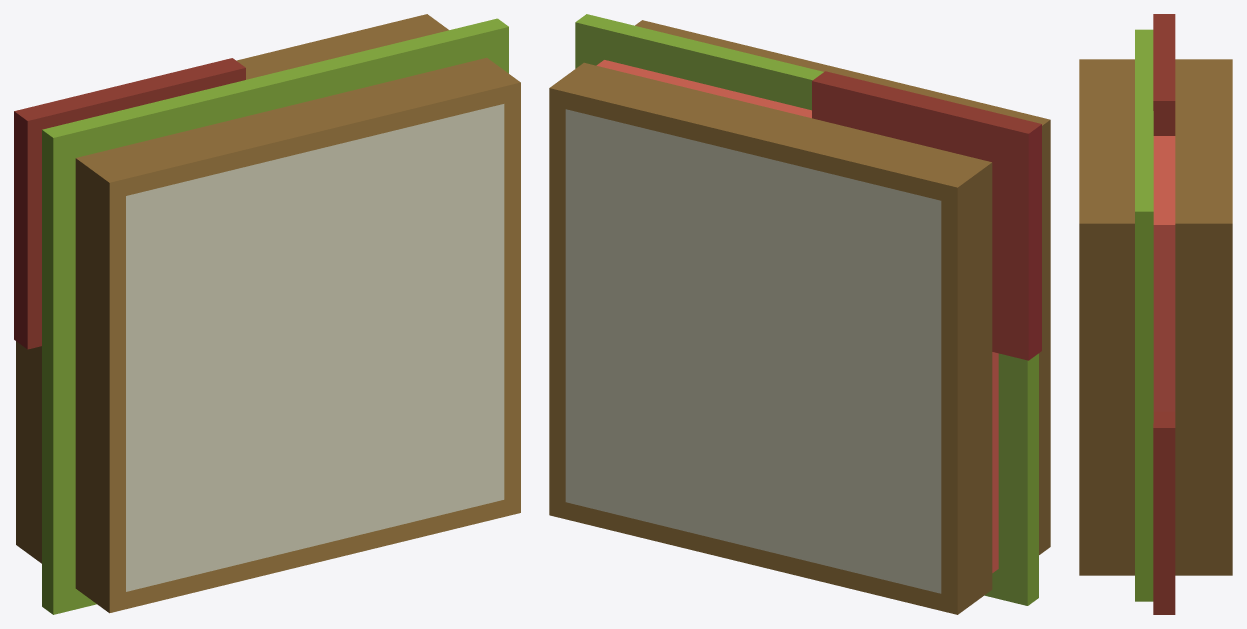
File: Sandwich.fbx
The picture shows the model from 3 angles, left to right: view 1: azimuth 30°, elevation 25°; view 2: azimuth 150°, elevation 25°; view 3: azimuth 270°, elevation 25°; orthographic projection. The views are drawn at different scales.
Visible parts, largest first — view 1: Sandwich; view 2: Sandwich; view 3: Sandwich.
Part boxes in pixels (bbox=[...]): Sandwich: bbox=[14, 14, 520, 614]; Sandwich: bbox=[549, 14, 1050, 614]; Sandwich: bbox=[1079, 14, 1232, 614].
Bounding box in the file's own units: 51.97 × 51.53 × 17.48.
